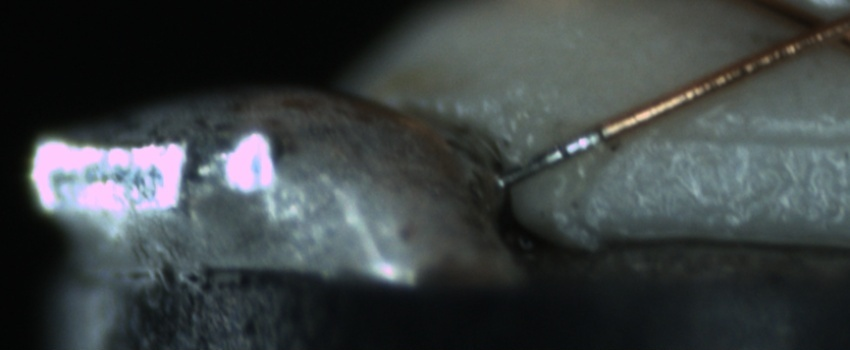CL: (768, 2, 850, 61)
DL: (653, 100, 850, 164)
TS: (500, 130, 604, 190)
